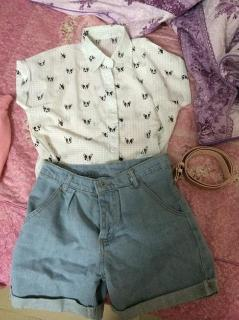short sleeve top: (16, 25, 192, 220)
shorts: (9, 153, 220, 319)
